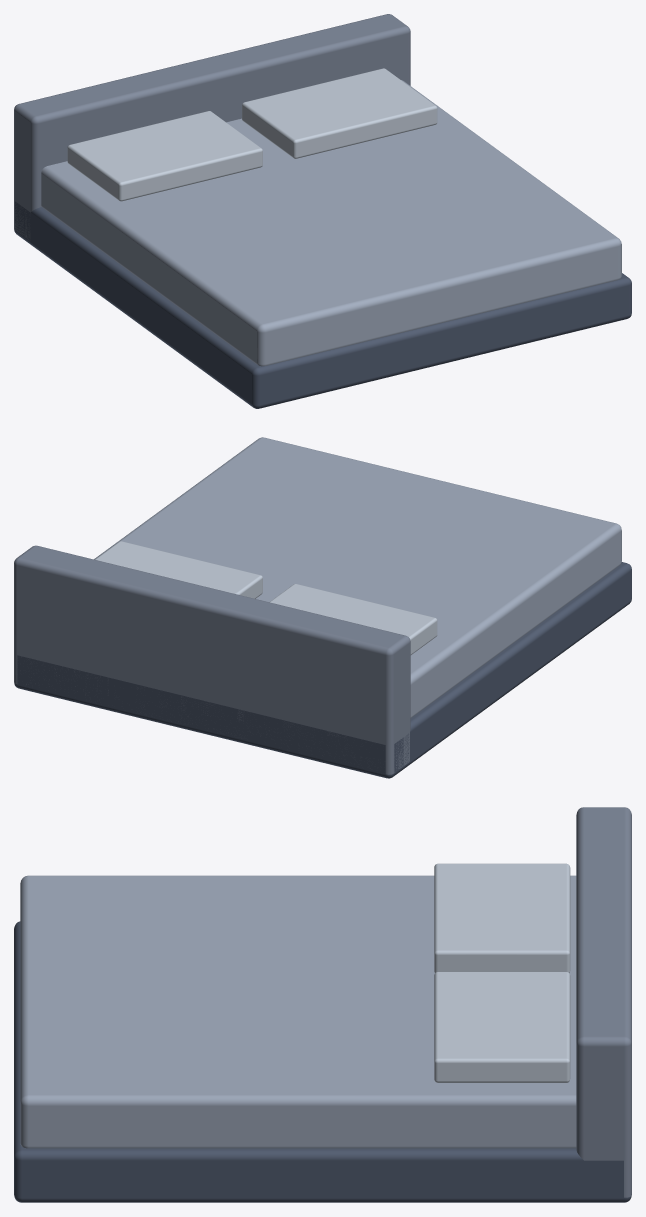
Rendered from bed.glb.
3 renders of one model, top to bottom at view 1: azimuth 30°, elevation 25°; view 2: azimuth 150°, elevation 25°; view 3: azimuth 270°, elevation 25°, orthographic. The views are drawn at different scales.
Parts seen in each view (by area): view 1: bed; view 2: bed; view 3: bed.
Part boxes in pixels (x1,y1,x2,y2): bed: (14, 14, 631, 408); bed: (14, 437, 631, 778); bed: (14, 807, 631, 1202).
Bounding box in the file's own units: 1.8 × 0.5921 × 2.
